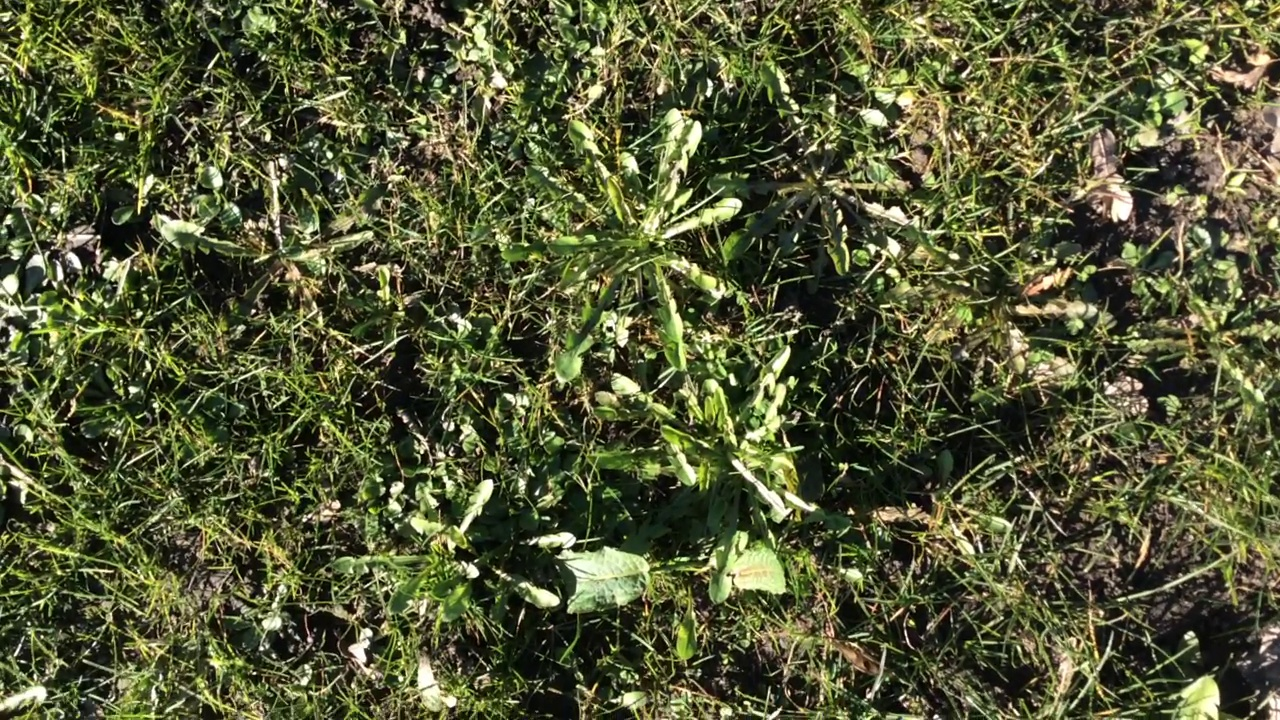rumex: (536, 548, 650, 614), (716, 548, 787, 594)
